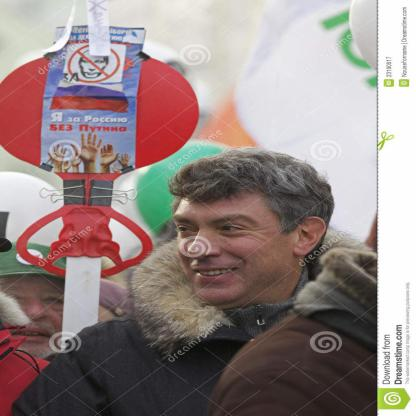face: (178, 186, 300, 304), (2, 271, 82, 368)
